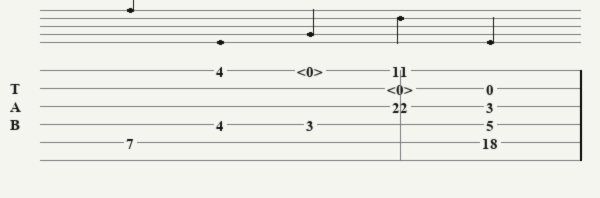0: (486, 81, 498, 95)
11: (392, 63, 412, 77)
18: (482, 135, 502, 149)
22: (392, 99, 412, 113)
3: (306, 117, 318, 131), (486, 99, 498, 113)
4: (216, 63, 228, 77), (216, 117, 228, 131)
5: (486, 117, 498, 131)
7: (126, 135, 138, 149)
harmonic: (297, 63, 327, 77), (387, 81, 417, 95)
